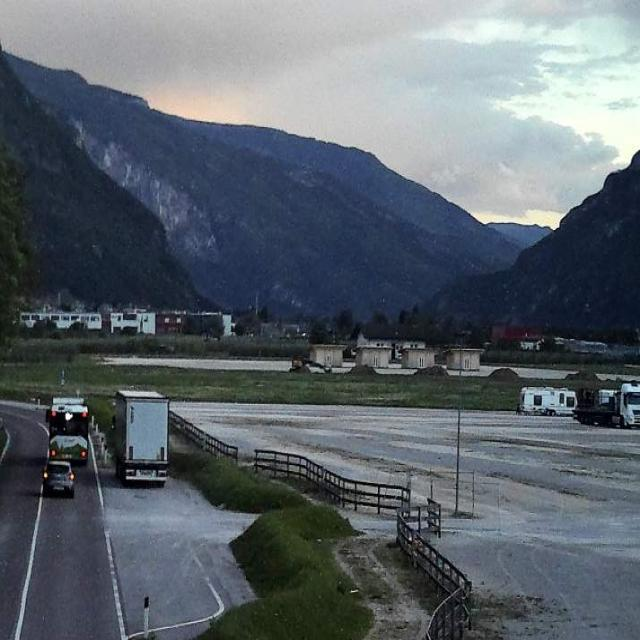bus: (46, 396, 90, 464)
car: (42, 459, 75, 500)
van: (111, 389, 169, 487), (572, 383, 640, 429)
